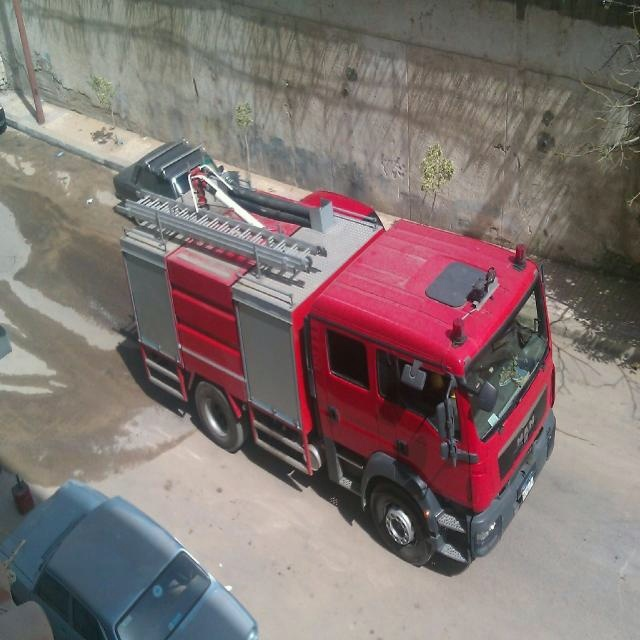Fire-truck: (111, 137, 557, 568)
car: (0, 479, 258, 640)
